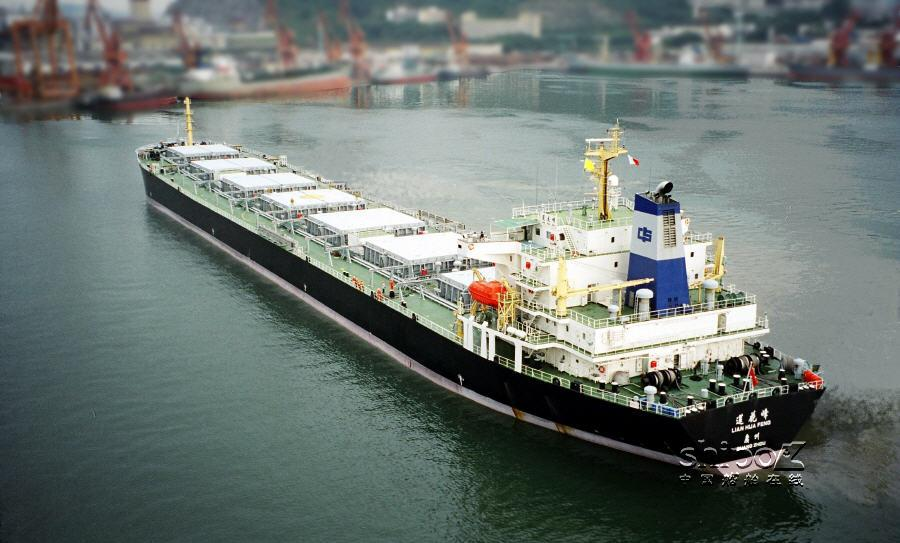Cargoship: (128, 88, 832, 479)
